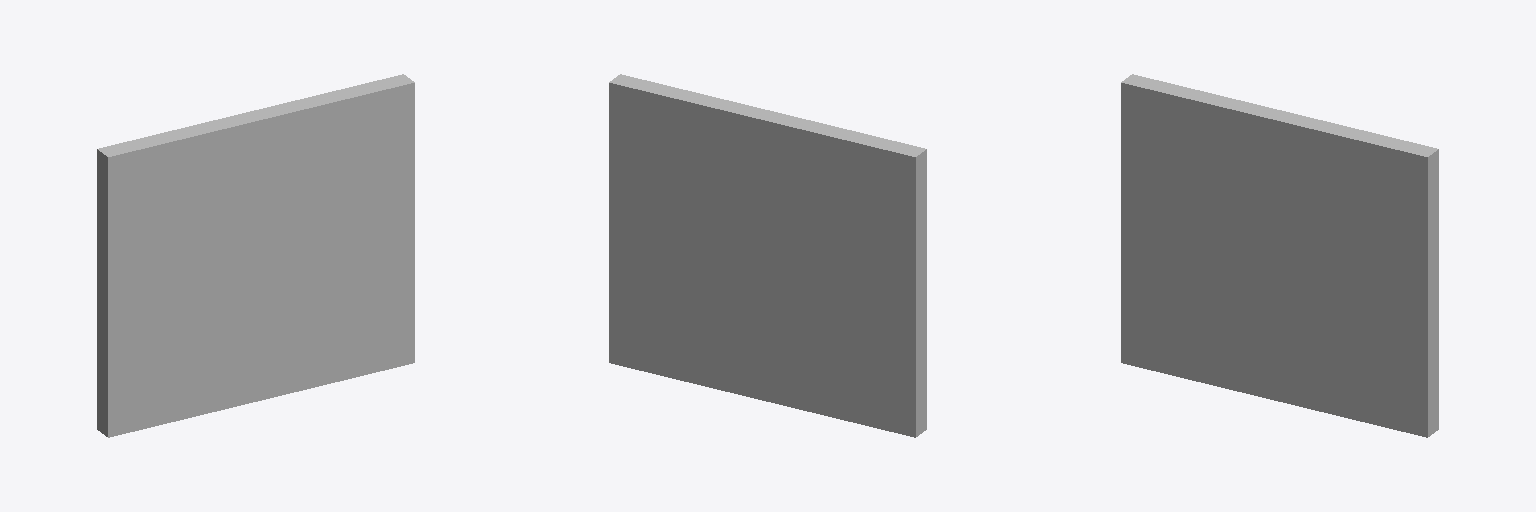
Rendered from wall.obj.
3 renders of one model, left to right at view 1: azimuth 30°, elevation 25°; view 2: azimuth 150°, elevation 25°; view 3: azimuth 330°, elevation 25°, orthographic.
Parts seen in each view (by area): view 1: Cube_Cube.001; view 2: Cube_Cube.001; view 3: Cube_Cube.001.
Part boxes in pixels (bbox=[...]): Cube_Cube.001: bbox=[97, 74, 414, 437]; Cube_Cube.001: bbox=[609, 74, 926, 437]; Cube_Cube.001: bbox=[1121, 74, 1438, 437].
Bounding box in the file's own units: 30.88 × 26.98 × 2.